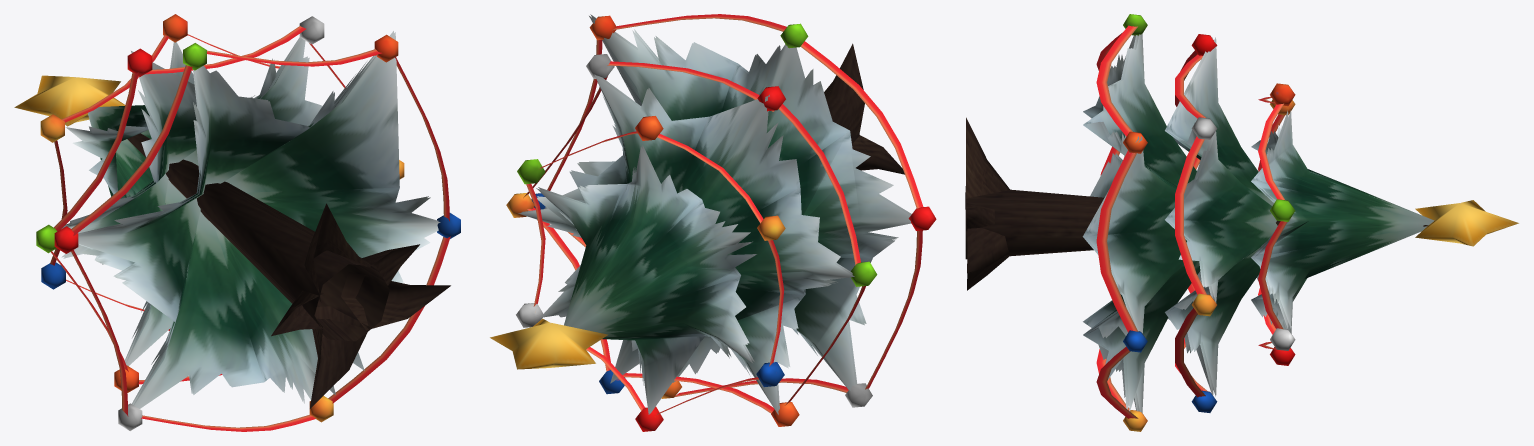
Rendered from Christmas_Tree_B.FBX.
The picture shows the model from 3 angles, left to right: view 1: azimuth 30°, elevation 25°; view 2: azimuth 150°, elevation 25°; view 3: azimuth 270°, elevation 25°; orthographic projection. The views are drawn at different scales.
Visible parts, largest first — view 1: Christmas_Tree_B; view 2: Christmas_Tree_B; view 3: Christmas_Tree_B.
Part boxes in pixels (x1=…): Christmas_Tree_B: x1=14, y1=14, x2=460, y2=431; Christmas_Tree_B: x1=490, y1=14, x2=936, y2=431; Christmas_Tree_B: x1=965, y1=14, x2=1518, y2=431.
Size of the model in its own units: 68.05 by 65.04 by 90.7.
